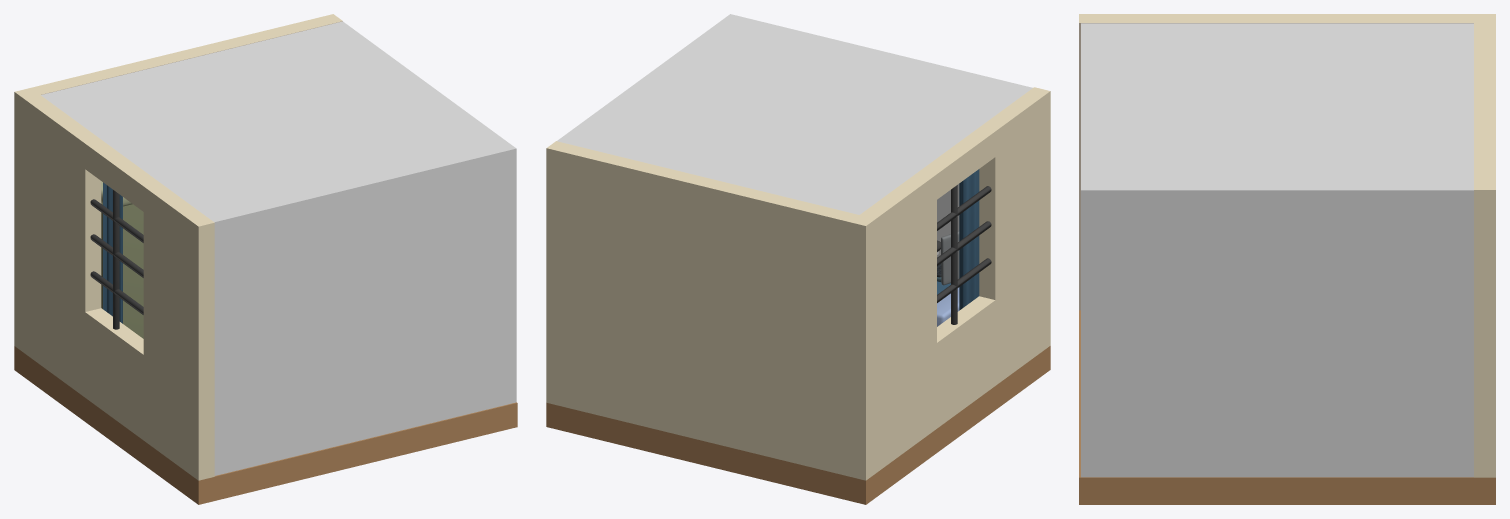
File: Cozy Bed Room.fbx
3 views of the same model, side by side, from view 1: azimuth 30°, elevation 25°; view 2: azimuth 150°, elevation 25°; view 3: azimuth 270°, elevation 25° (orthographic). The views are drawn at different scales.
Parts seen in each view (by area): view 1: Cube.018, Cube.002, window, cupboard; view 2: Cube.002, Cube.018, window; view 3: Cube.018, Cube.002.
Boxes of the visible parts, left/top/right/bottom form: Cube.018: left=41, top=21, right=516, bottom=475; Cube.002: left=14, top=14, right=517, bottom=504; window: left=90, top=182, right=143, bottom=329; cupboard: left=101, top=181, right=143, bottom=338; Cube.002: left=546, top=87, right=1050, bottom=504; Cube.018: left=557, top=14, right=1032, bottom=257; window: left=937, top=169, right=991, bottom=324; Cube.018: left=1081, top=23, right=1473, bottom=477; Cube.002: left=1079, top=14, right=1495, bottom=504.
Size of the model in its own units: 156 by 130 by 156.
